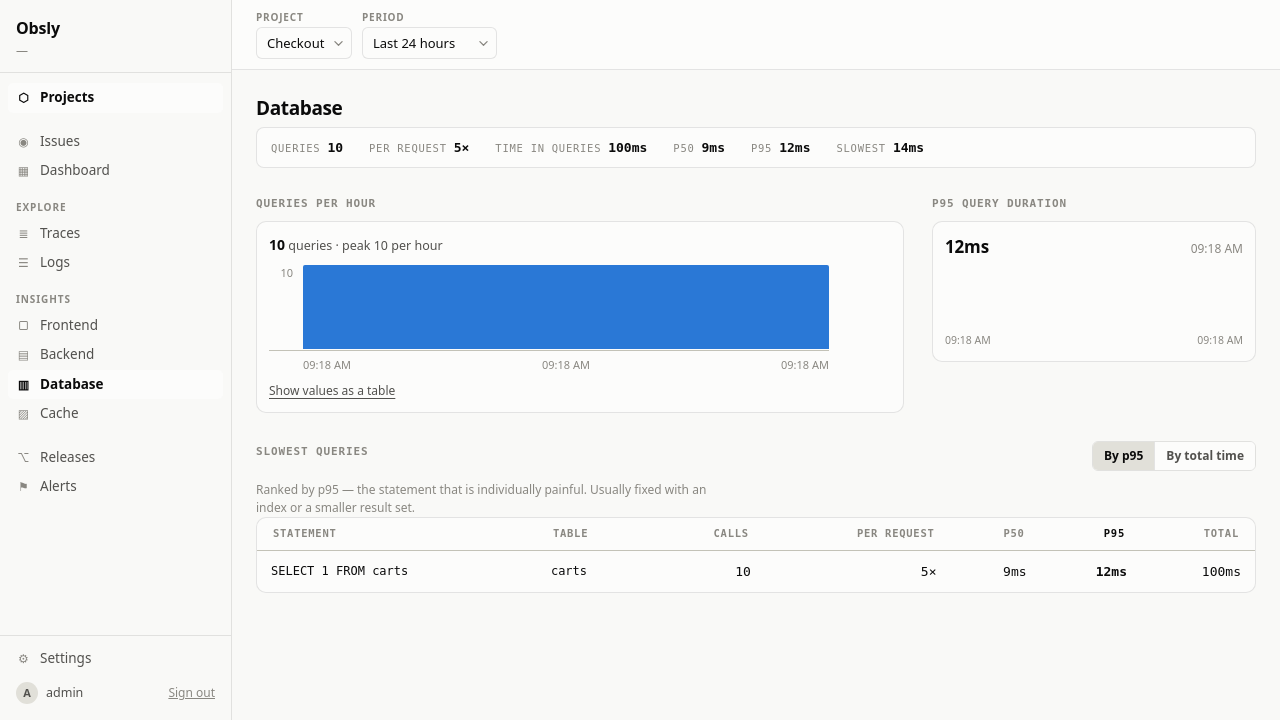
Test: Review findings › a statement navigates in-app rather than reloading the page
Expected: the heading "Database" is shown, 256,94 -> 342,123
Click the link "SELECT 1 FROM carts". click: [340, 571]
box: 271,564 -> 408,578
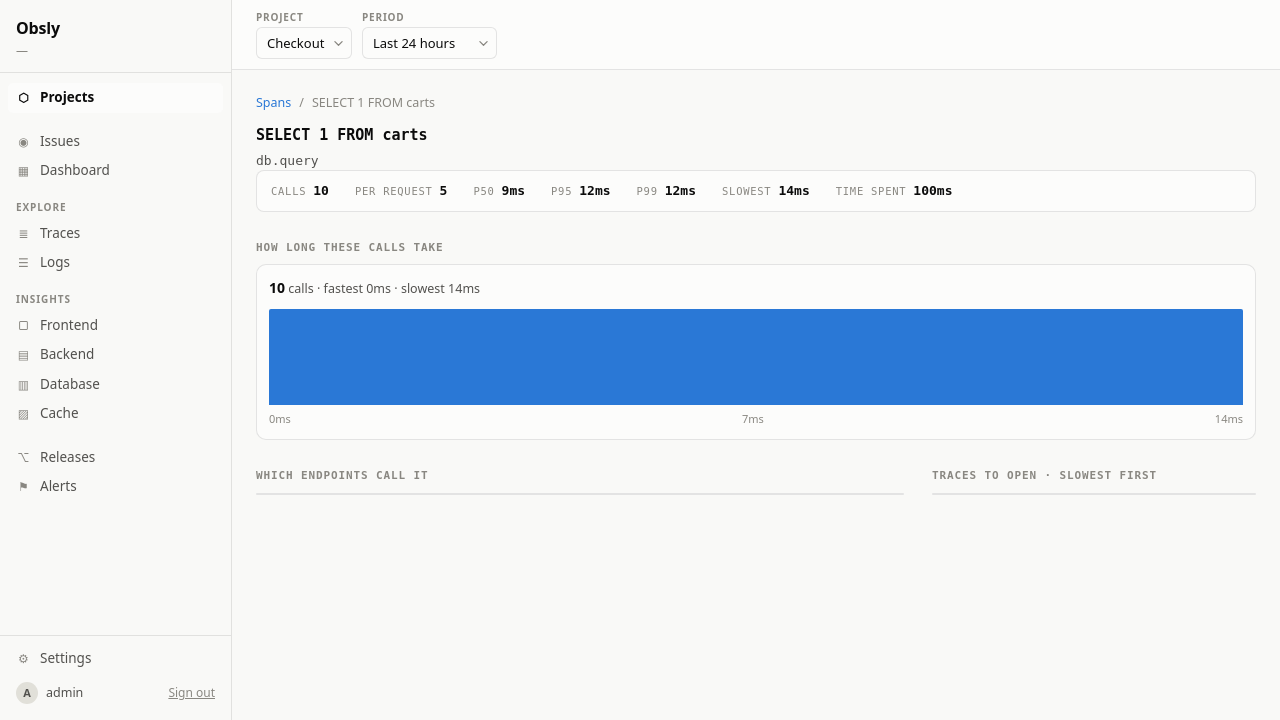
Now the heading "How long these calls take" is shown, box 256,241 -> 444,254
